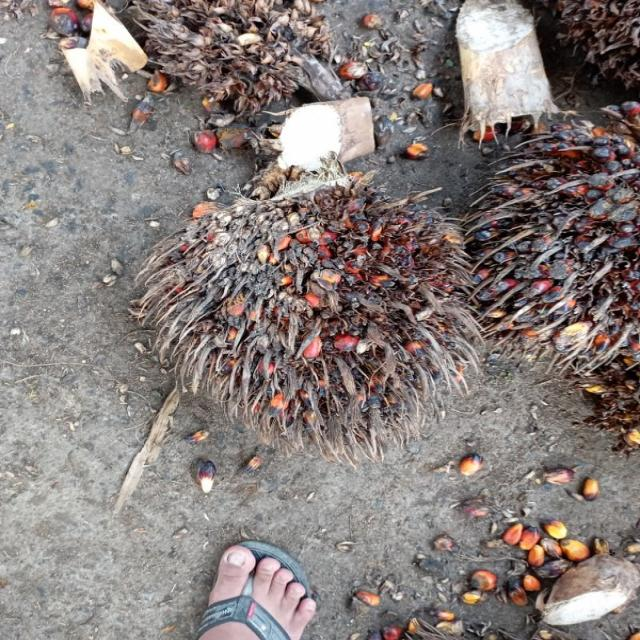fraksi 4: (96, 138, 521, 484)
